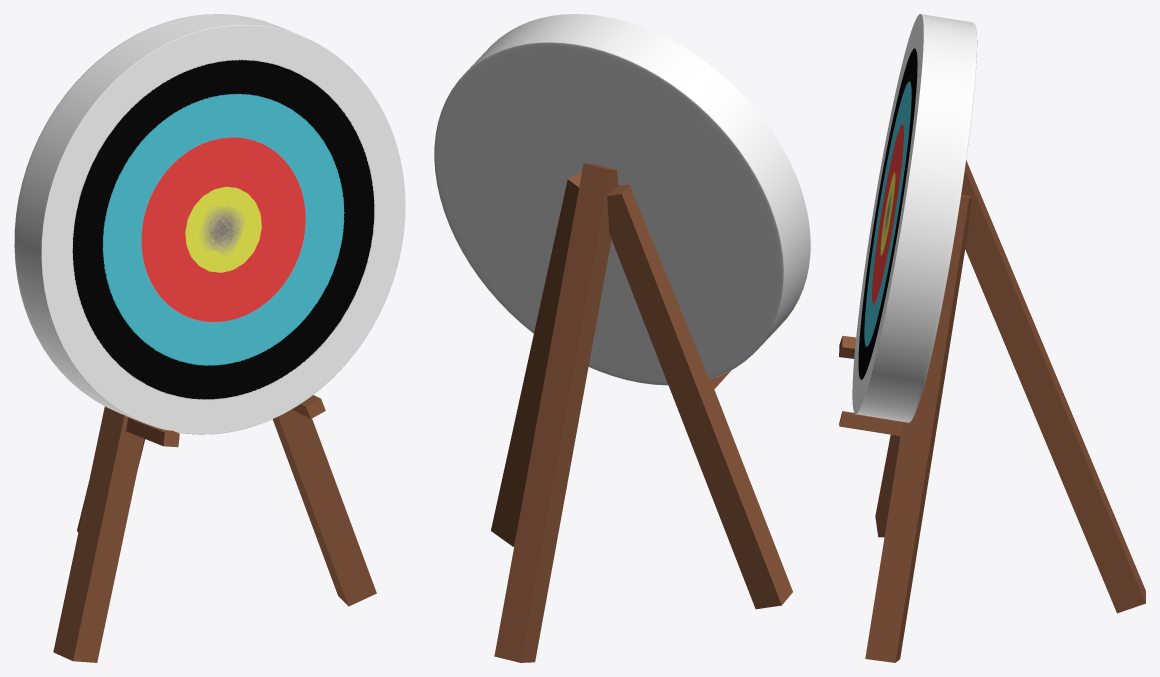
The model's file is target_shot.glb.
3 views of the same model, side by side, from view 1: azimuth 30°, elevation 25°; view 2: azimuth 150°, elevation 25°; view 3: azimuth 270°, elevation 25° (orthographic). The views are drawn at different scales.
Parts seen in each view (by area): view 1: Target_geo, Legs_geo; view 2: Target_geo, Legs_geo; view 3: Target_geo, Legs_geo.
Boxes of the visible parts, x1,y1,x2,y2 form: Target_geo: (14, 14, 405, 434); Legs_geo: (53, 395, 376, 662); Target_geo: (434, 14, 810, 385); Legs_geo: (491, 163, 792, 662); Target_geo: (852, 14, 977, 422); Legs_geo: (839, 160, 1145, 662).
Size of the model in its own units: 0.6336 by 0.9888 by 0.479.
2 materials, 1 textured.
